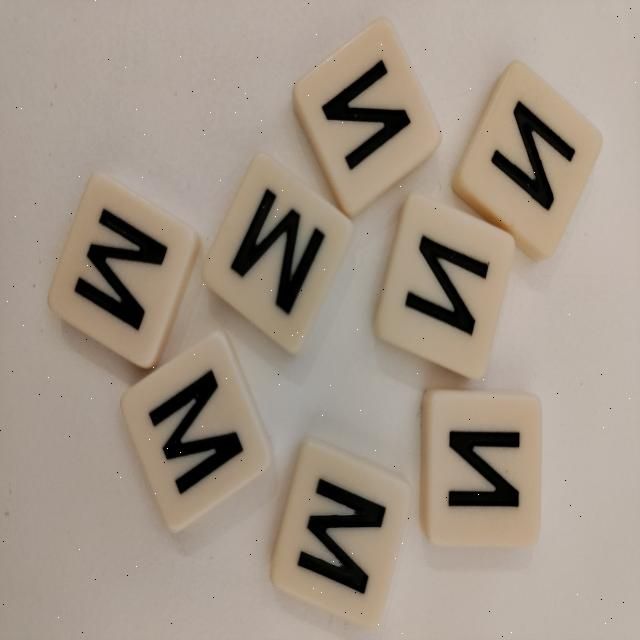m: (115, 322, 277, 536), (195, 148, 358, 357), (43, 165, 203, 372), (266, 433, 415, 632)
n: (449, 55, 607, 268), (285, 12, 446, 219), (372, 189, 517, 383), (420, 388, 543, 546)
